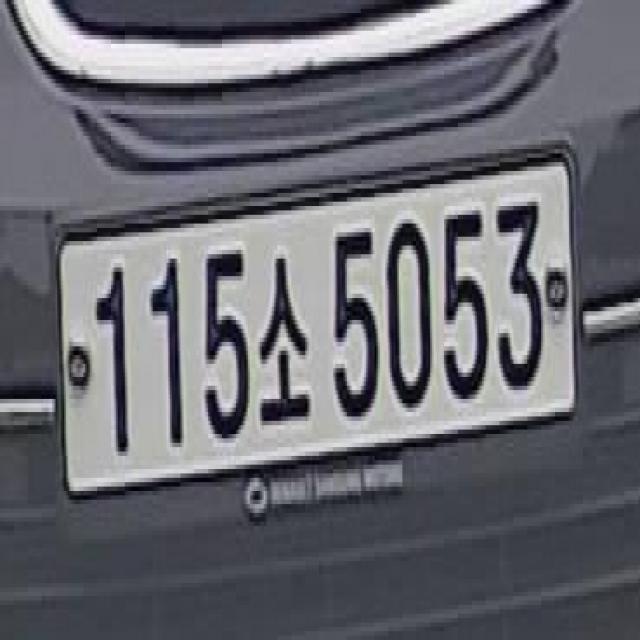illegal_plate: (51, 152, 579, 526)
